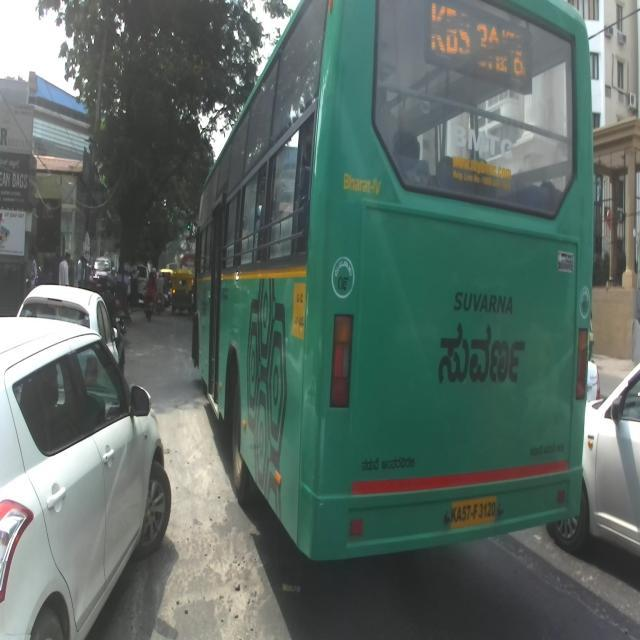pothole: (181, 504, 255, 640)
